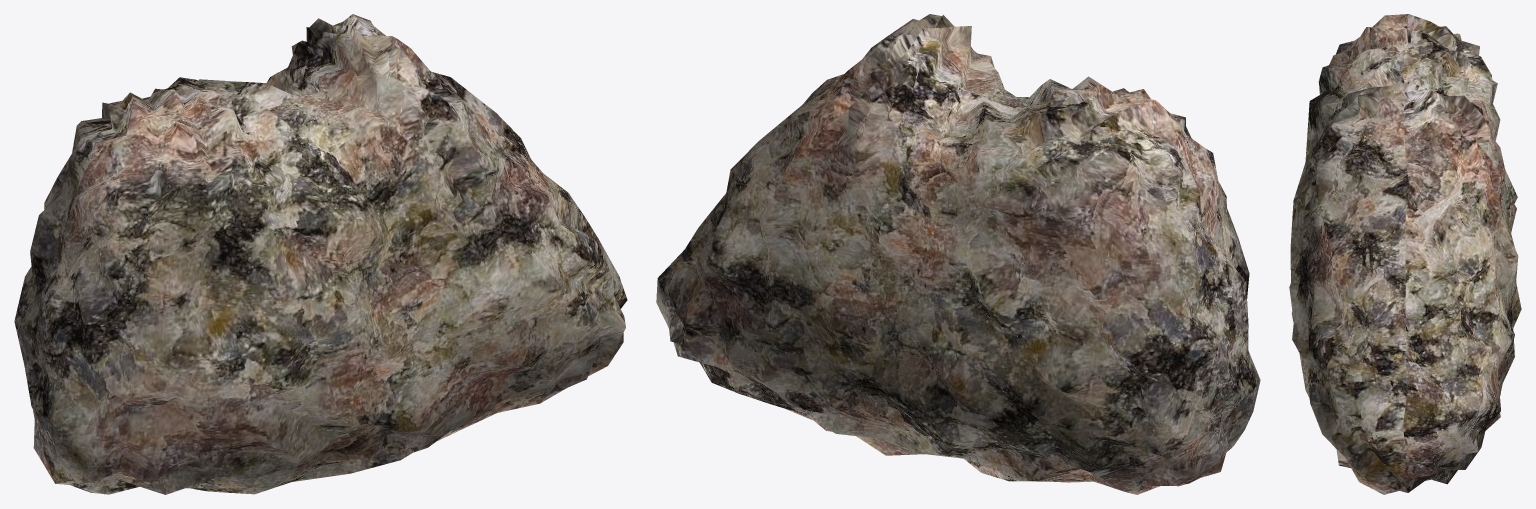
File: Update Granite.fbx
3 renders of one model, left to right at view 1: azimuth 30°, elevation 25°; view 2: azimuth 150°, elevation 25°; view 3: azimuth 270°, elevation 25°, orthographic. The views are drawn at different scales.
Parts seen in each view (by area): view 1: Granite; view 2: Granite; view 3: Granite.
Boxes of the visible parts, x1,y1,x2,y2 form: Granite: (14,14,627,494); Granite: (656,14,1260,494); Granite: (1289,14,1521,494).
Bounding box in the file's own units: 472 × 335 × 198.
